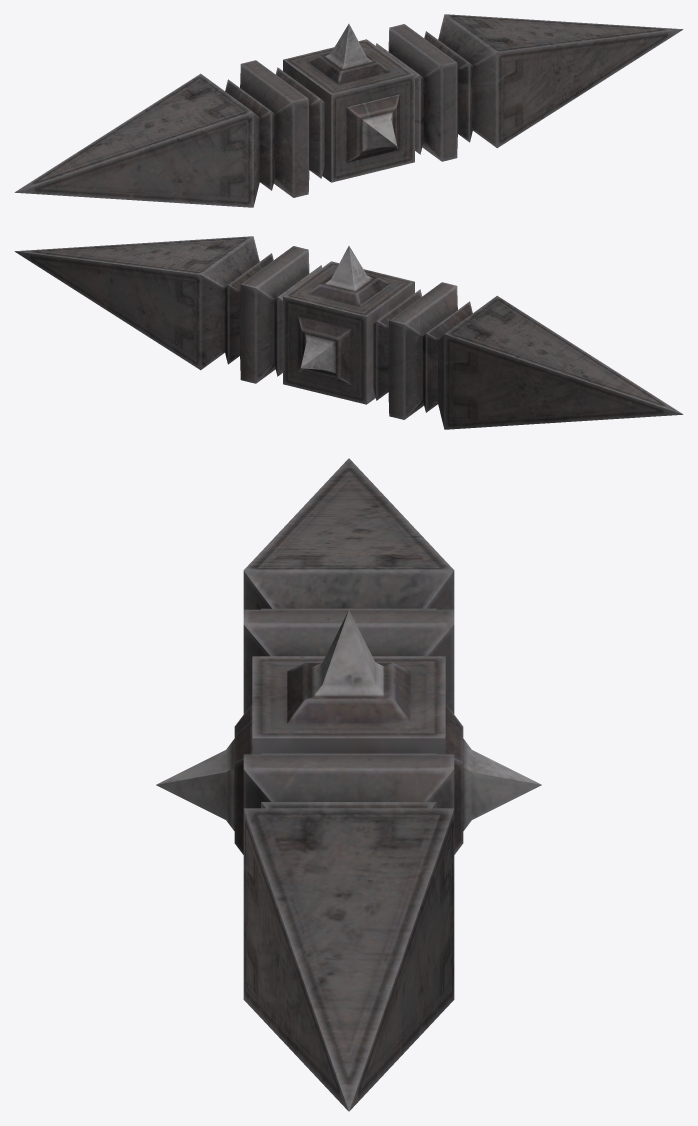
Rendered from sm_dwarf_iron_mattock_blade_b.fbx.
The picture shows the model from 3 angles, top to bottom: view 1: azimuth 30°, elevation 25°; view 2: azimuth 150°, elevation 25°; view 3: azimuth 270°, elevation 25°; orthographic projection. The views are drawn at different scales.
Visible parts, largest first — view 1: sm_dwarf_iron_mattock_blade_b; view 2: sm_dwarf_iron_mattock_blade_b; view 3: sm_dwarf_iron_mattock_blade_b.
Part boxes in pixels (x1,y1,x2,y2): sm_dwarf_iron_mattock_blade_b: (14,14,683,207); sm_dwarf_iron_mattock_blade_b: (14,236,683,429); sm_dwarf_iron_mattock_blade_b: (156,458,541,1111).
Bounding box in the file's own units: 0.88 × 0.22 × 0.17.
1 material, 1 textured.
